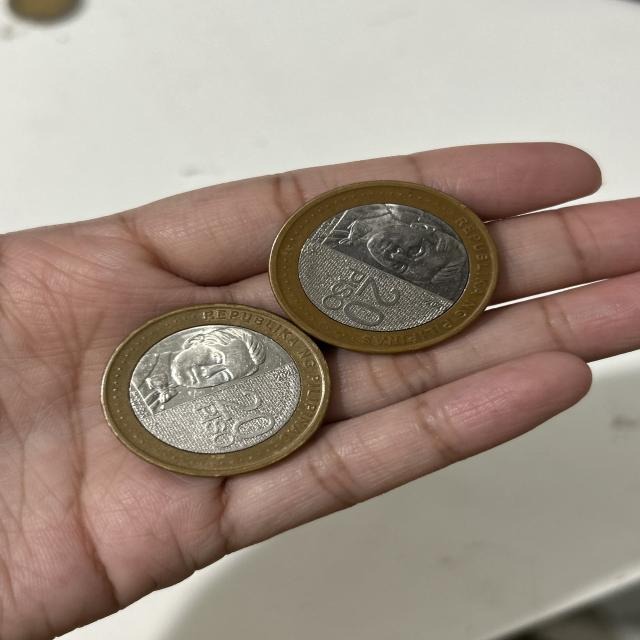20_New_Front: (319, 263, 407, 331), (186, 389, 281, 448)
